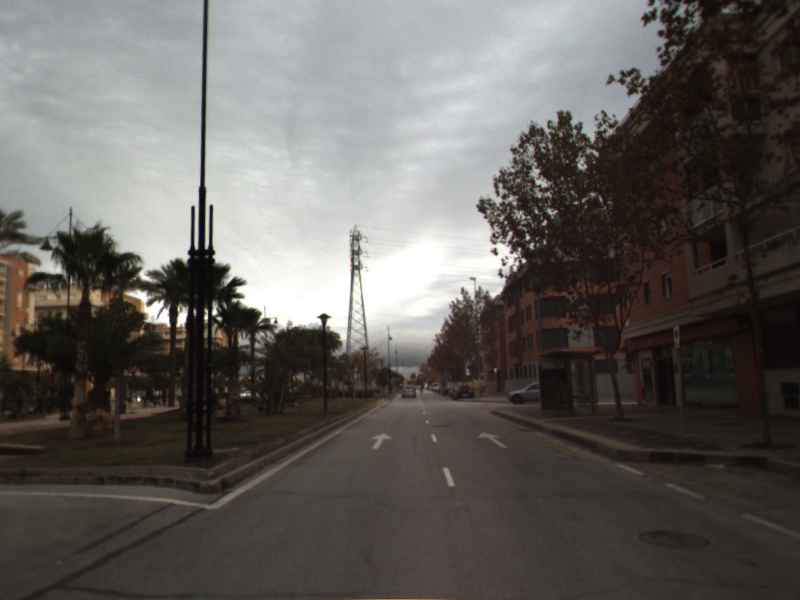STRAIGHT: (476, 429, 510, 450), (369, 431, 395, 451)
